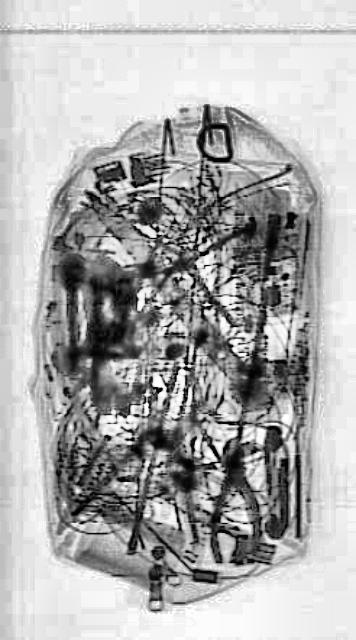Pliers: (132, 201, 256, 323), (204, 432, 262, 564)
